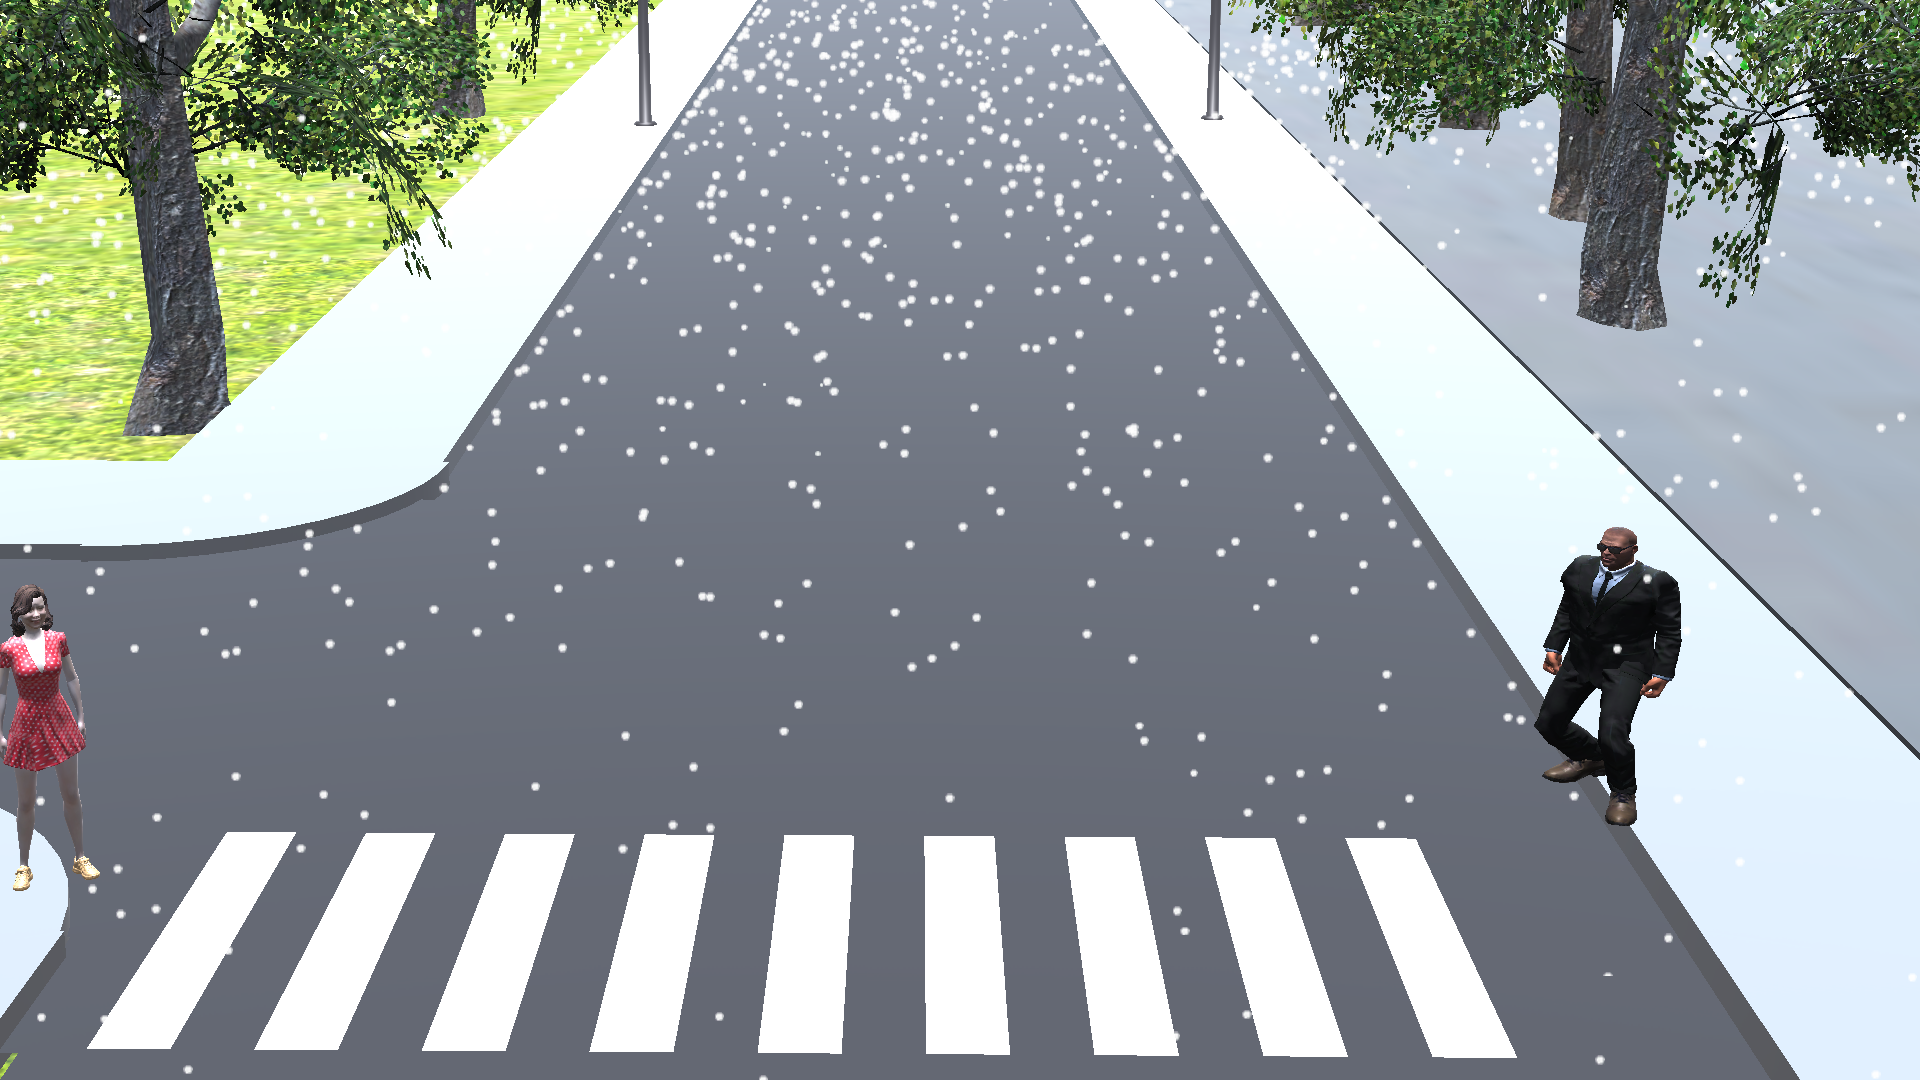pedestrian: (1522, 517, 1695, 863), (1, 572, 114, 896)
